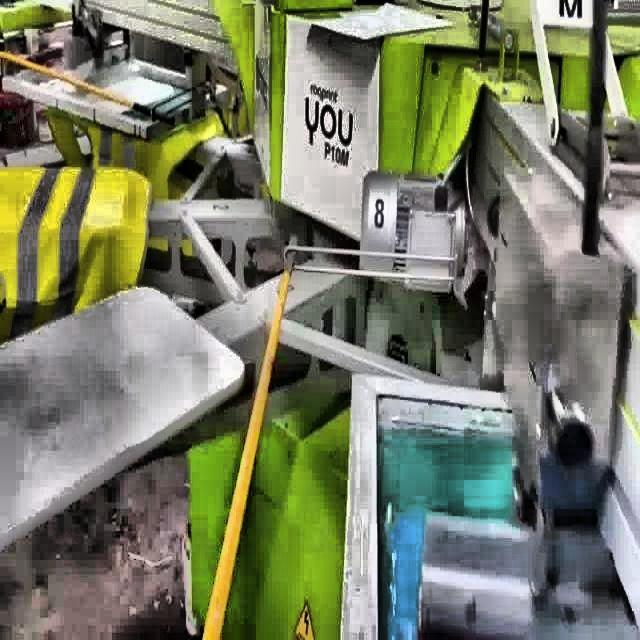safety_jacket: (0, 164, 154, 340)
